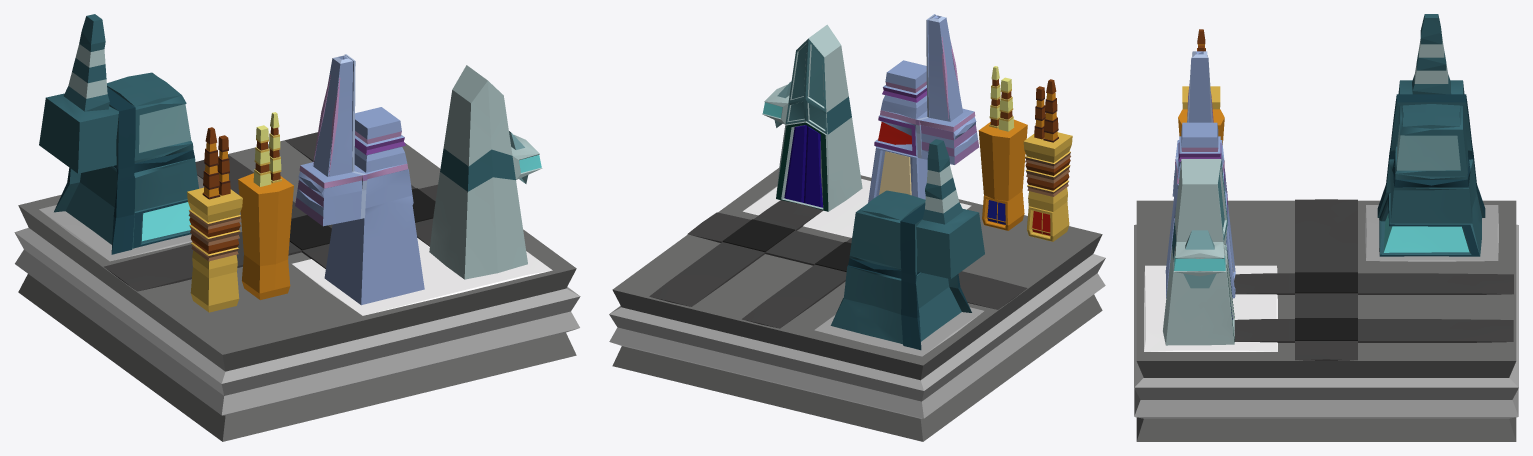
File: city.fbx
3 views of the same model, side by side, from view 1: azimuth 30°, elevation 25°; view 2: azimuth 150°, elevation 25°; view 3: azimuth 270°, elevation 25° (orthographic). The views are drawn at different scales.
Visible parts, largest first — view 1: Cube, Cube.015, Cube.014; view 2: Cube, Cube.015, Cube.014, Cube.017, Cube.016, Cube.018; view 3: Cube, Cube.014, Cube.015.
Boxes of the visible parts, x1,y1,x2,y2 form: Cube: [14, 14, 580, 441]; Cube.015: [238, 112, 293, 299]; Cube.014: [187, 127, 242, 312]; Cube: [609, 14, 1105, 441]; Cube.015: [978, 66, 1027, 230]; Cube.014: [1023, 79, 1072, 241]; Cube.017: [784, 125, 807, 202]; Cube.016: [804, 126, 823, 207]; Cube.018: [879, 151, 911, 195]; Cube: [1134, 14, 1518, 441]; Cube.014: [1182, 29, 1220, 109]; Cube.015: [1178, 109, 1224, 144].
Size of the model in its own units: 20.44 by 18.66 by 20.27.
1 material, 1 textured.
